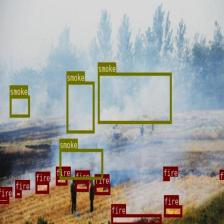fire: (110, 213, 160, 224), (164, 205, 182, 216), (35, 181, 49, 193), (94, 184, 110, 194), (75, 180, 88, 191), (56, 176, 67, 185), (0, 196, 8, 203), (15, 190, 21, 197), (219, 169, 224, 177), (163, 177, 169, 180)
smoke: (98, 72, 172, 123), (66, 82, 94, 132), (59, 148, 103, 179), (9, 95, 30, 116)
